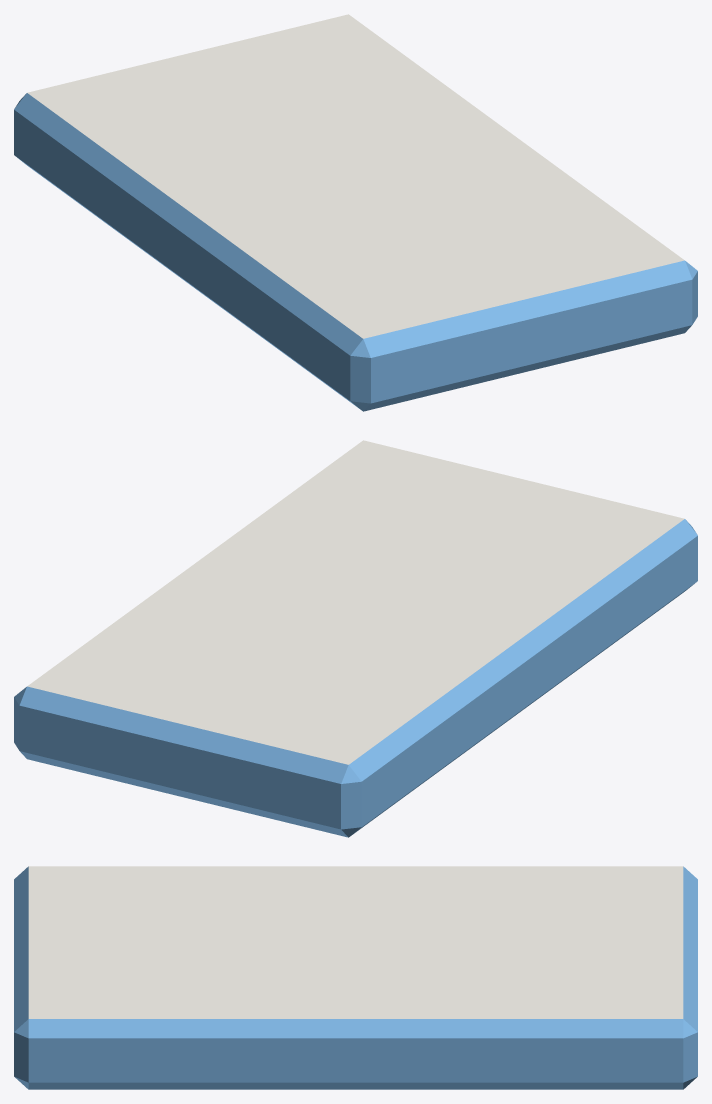
Rendered from FUR_Mattress_Frac.fbx.
The picture shows the model from 3 angles, top to bottom: view 1: azimuth 30°, elevation 25°; view 2: azimuth 150°, elevation 25°; view 3: azimuth 270°, elevation 25°; orthographic projection. The views are drawn at different scales.
Parts seen in each view (by area): view 1: FUR_Mattress_Frac_2, FUR_Mattress_Frac_3, FUR_Mattress_Frac_4, FUR_Mattress_Frac_1; view 2: FUR_Mattress_Frac_2, FUR_Mattress_Frac_4, FUR_Mattress_Frac_3, FUR_Mattress_Frac_1; view 3: FUR_Mattress_Frac_4, FUR_Mattress_Frac_3, FUR_Mattress_Frac_2, FUR_Mattress_Frac_1.
Boxes of the visible parts, x1,y1,x2,y2 form: FUR_Mattress_Frac_2: [14, 50, 350, 338]; FUR_Mattress_Frac_3: [355, 159, 697, 375]; FUR_Mattress_Frac_4: [200, 14, 545, 190]; FUR_Mattress_Frac_1: [215, 151, 510, 411]; FUR_Mattress_Frac_2: [153, 528, 674, 837]; FUR_Mattress_Frac_4: [14, 542, 384, 789]; FUR_Mattress_Frac_3: [225, 440, 560, 595]; FUR_Mattress_Frac_1: [149, 488, 697, 801]; FUR_Mattress_Frac_4: [298, 935, 697, 1089]; FUR_Mattress_Frac_3: [14, 925, 371, 1089]; FUR_Mattress_Frac_2: [55, 866, 697, 963]; FUR_Mattress_Frac_1: [14, 866, 426, 938].
Size of the model in its own units: 4 by 0.8 by 7.
